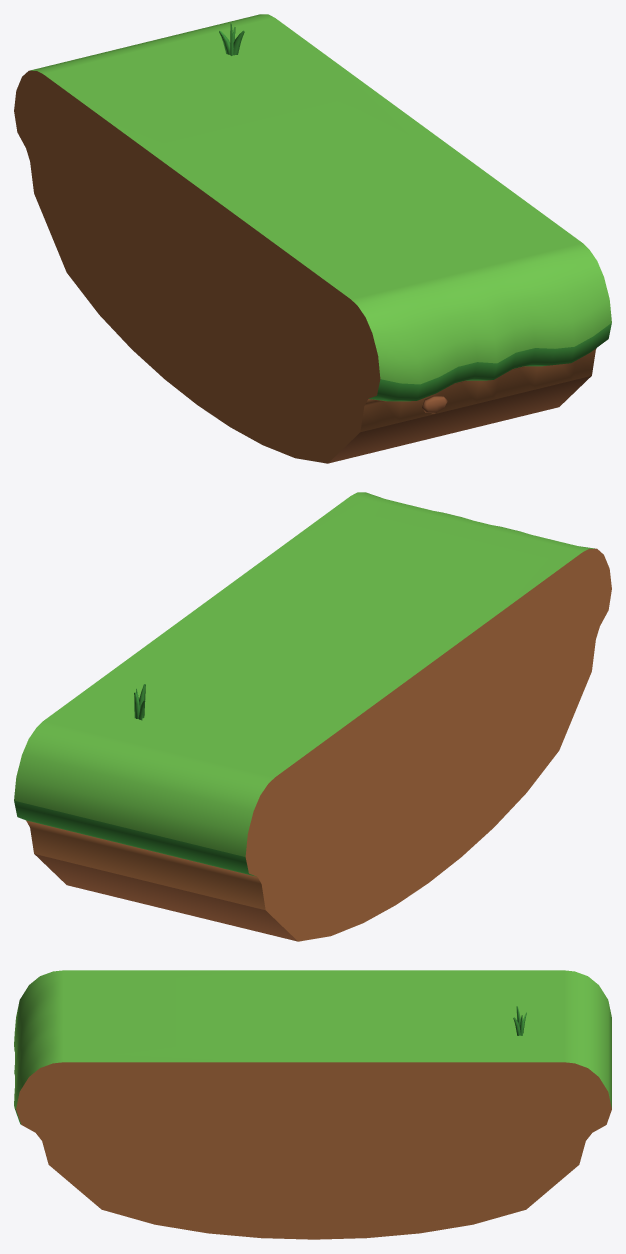
Rendered from float_mid_b.glb.
The picture shows the model from 3 angles, top to bottom: view 1: azimuth 30°, elevation 25°; view 2: azimuth 150°, elevation 25°; view 3: azimuth 270°, elevation 25°; orthographic projection. The views are drawn at different scales.
Visible parts, largest first — view 1: float_mid_b; view 2: float_mid_b; view 3: float_mid_b.
Boxes of the visible parts, x1,y1,x2,y2 form: float_mid_b: (14, 14, 611, 463); float_mid_b: (14, 492, 611, 941); float_mid_b: (14, 970, 611, 1239).
Size of the model in its own units: 1 by 1.04 by 2.75.
